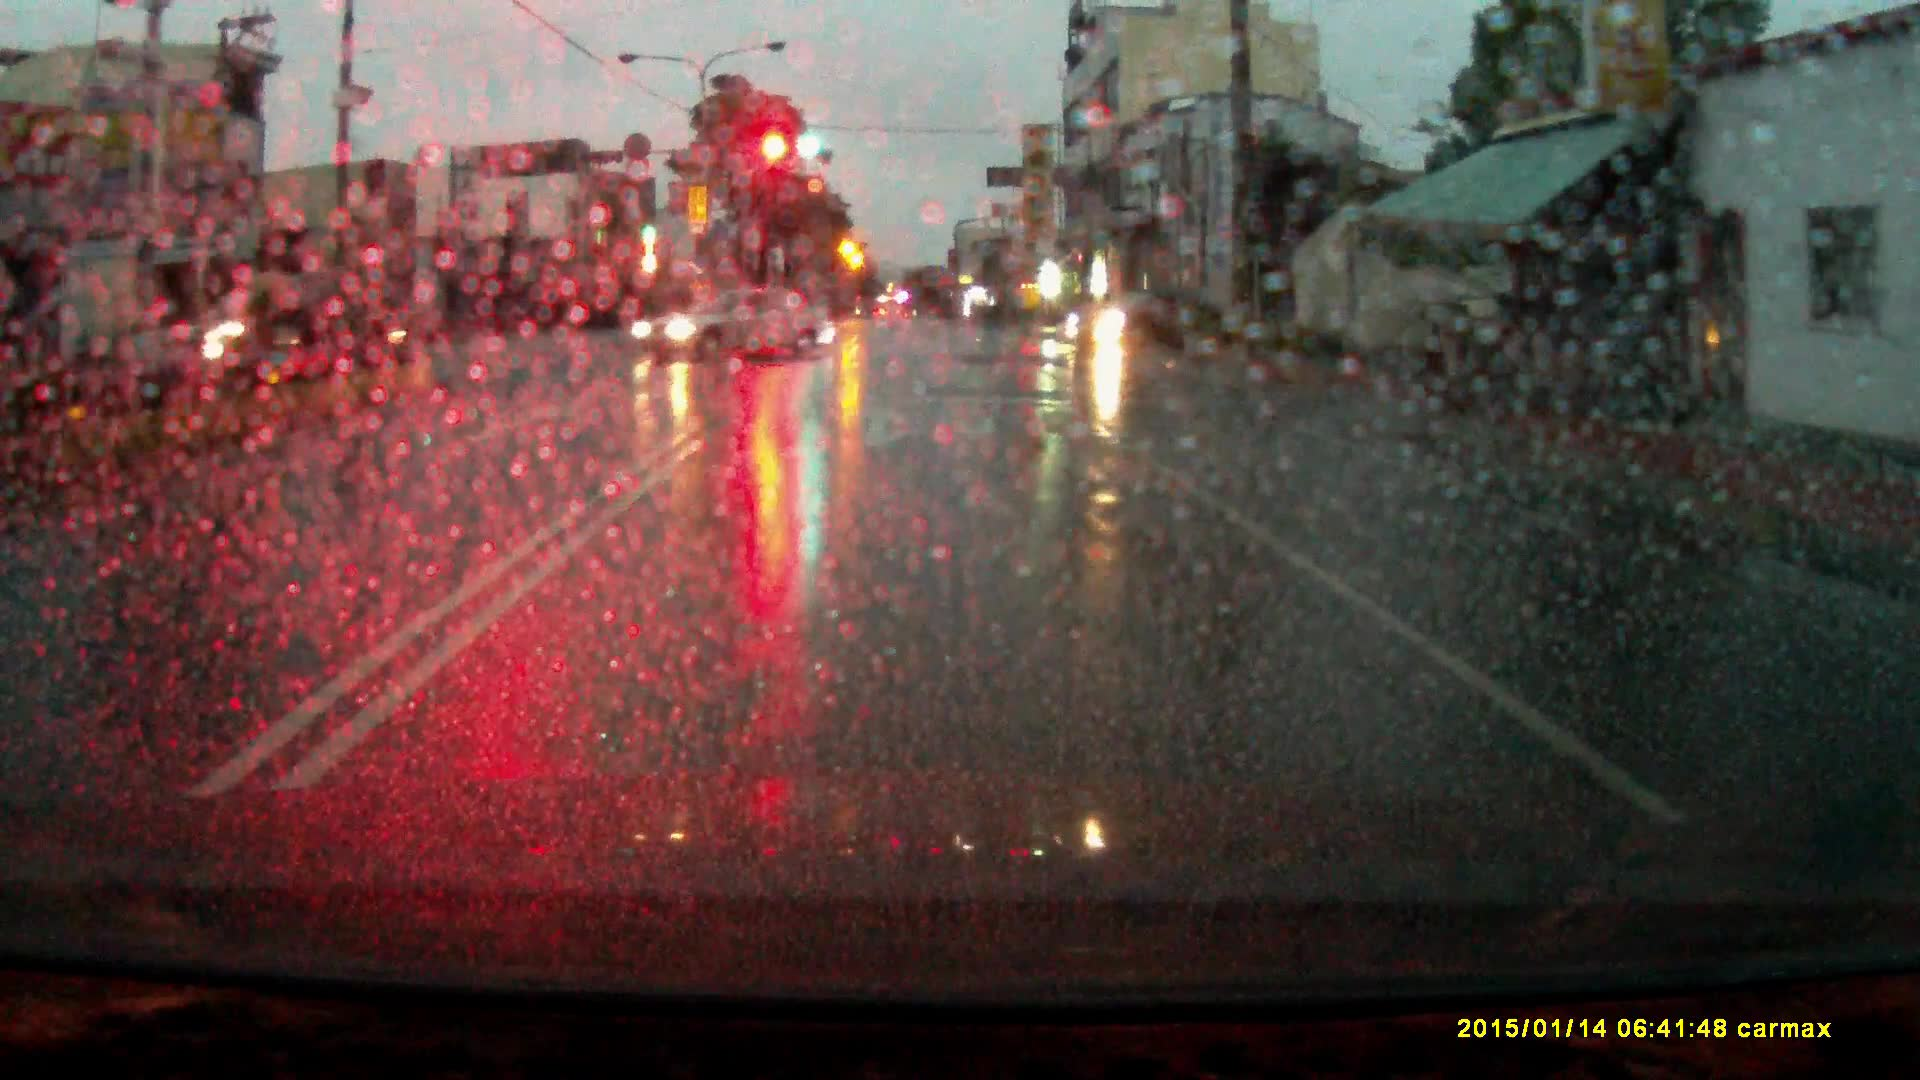vehicle: (160, 272, 419, 373), (626, 282, 841, 363), (1068, 291, 1230, 348)
